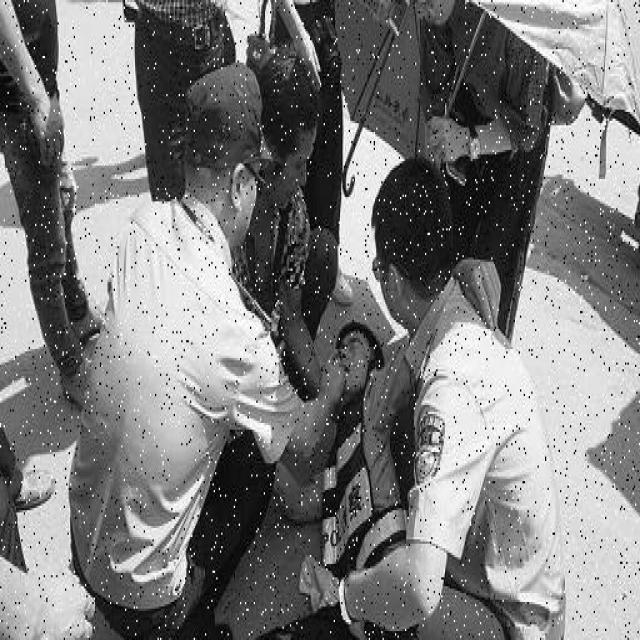fall: (282, 316, 422, 626)
